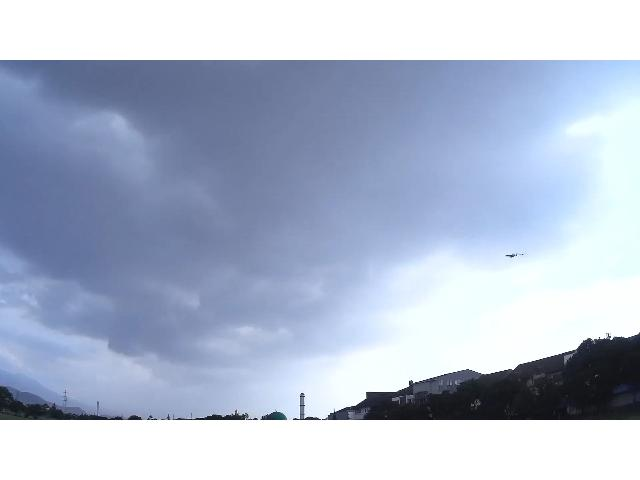Anti-Drone: (506, 253, 524, 257)
